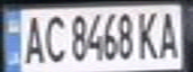4: (84, 10, 106, 62)
6: (100, 9, 121, 61)
8: (115, 9, 139, 61), (66, 10, 87, 62)
A: (154, 7, 184, 60), (18, 11, 45, 65)
C: (39, 11, 69, 64)
K: (136, 8, 163, 61)
